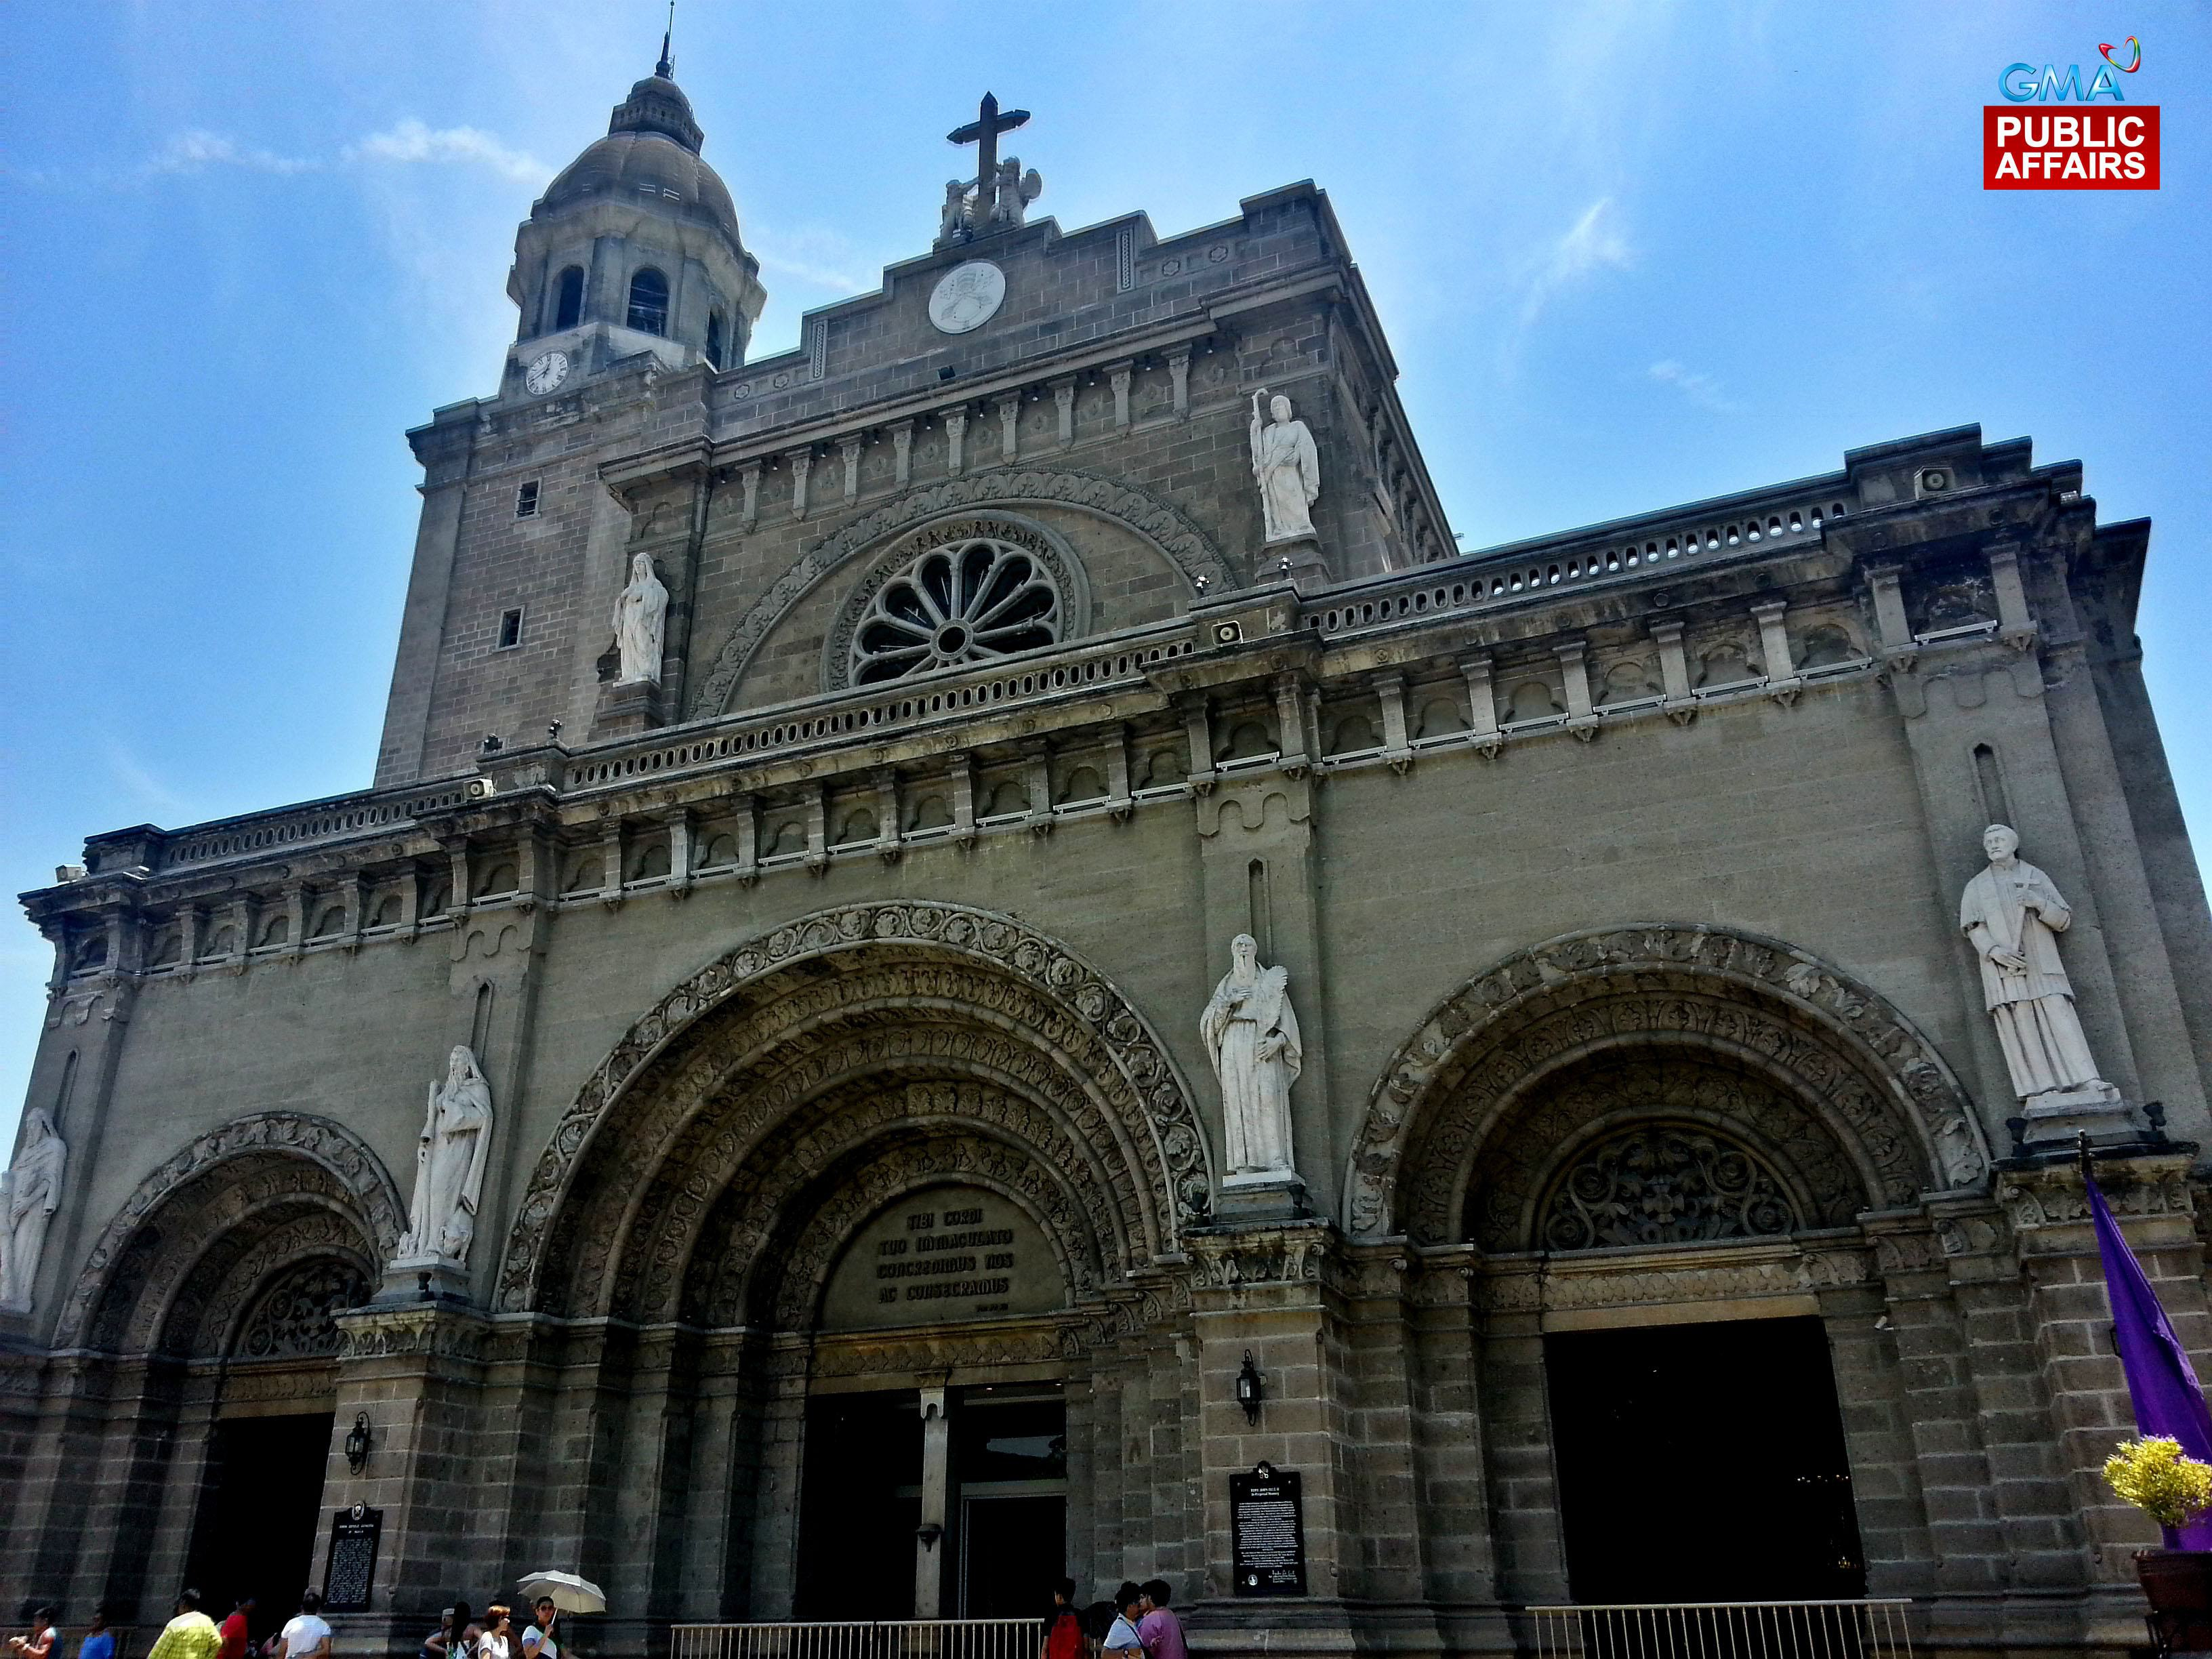manila_cathedral_church_intramuros_manila: (10, 9, 2212, 1643)
